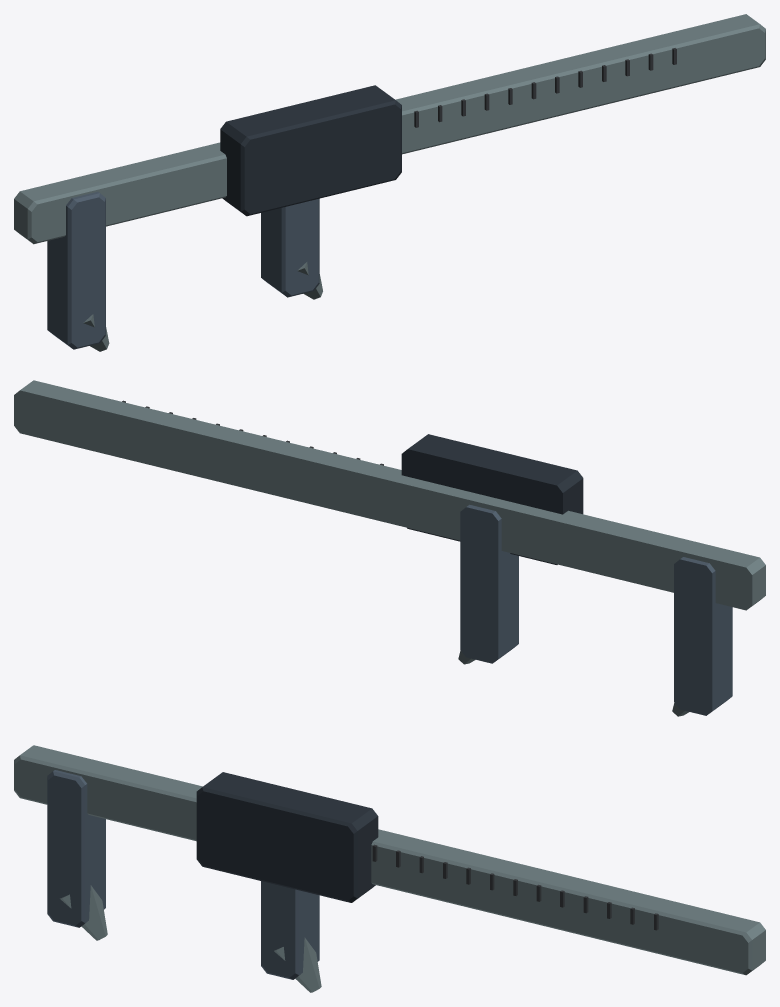
Rendered from T-10_caliper.glb.
The picture shows the model from 3 angles, top to bottom: view 1: azimuth 30°, elevation 25°; view 2: azimuth 150°, elevation 25°; view 3: azimuth 330°, elevation 25°; orthographic projection.
Parts seen in each view (by area): view 1: T-10_caliper; view 2: T-10_caliper; view 3: T-10_caliper.
Part boxes in pixels (x1,y1,x2,y2): T-10_caliper: (14,14,765,351); T-10_caliper: (14,380,765,716); T-10_caliper: (14,745,765,992).
Bounding box in the file's own units: 0.252 × 0.065 × 0.02.
